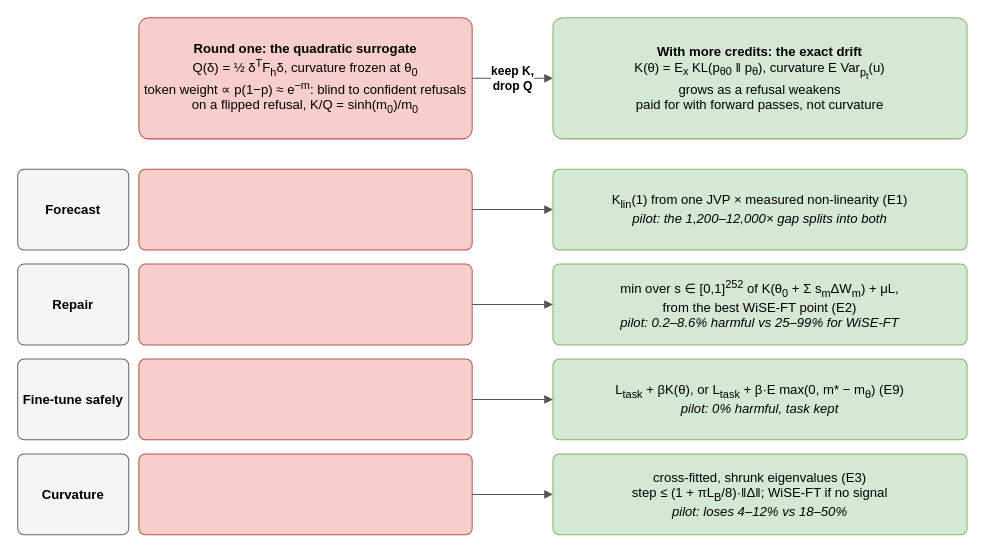
This 985x552 diagram has some shape labels left out. The shapes that lost their labels are listed below. From the top down, each one's box as (x1, y1, x2, y2) in pixels, then its label:
(138, 168, 472, 250): Q(Δ) 24–111× too low on Tiny Aya
(138, 263, 472, 345): argmin Q(Δ′) + μR(Δ′ − Δ) oblique steps up to 94×
(138, 358, 472, 440): L task + λQ(θ − θ 0 ), i.e. EWC pilot: 78–100% harmful at every λ
(138, 453, 472, 535): in-sample generalised eigenvalues noise spreads them 16-fold
